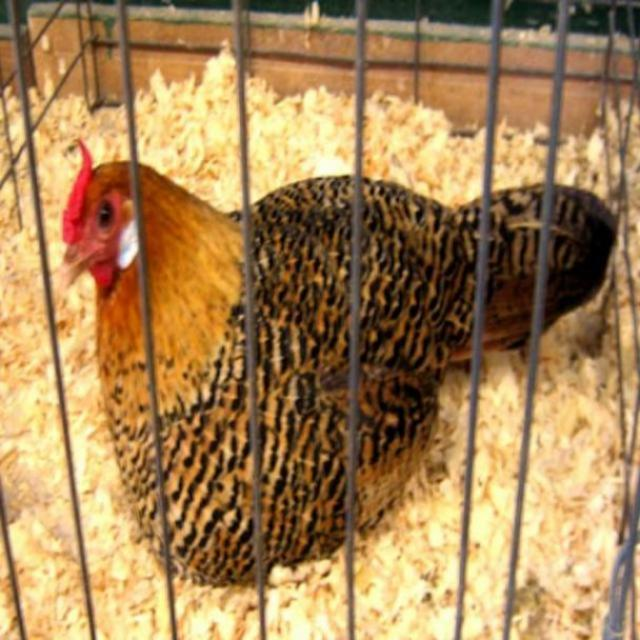Chicken: (66, 78, 540, 603)
